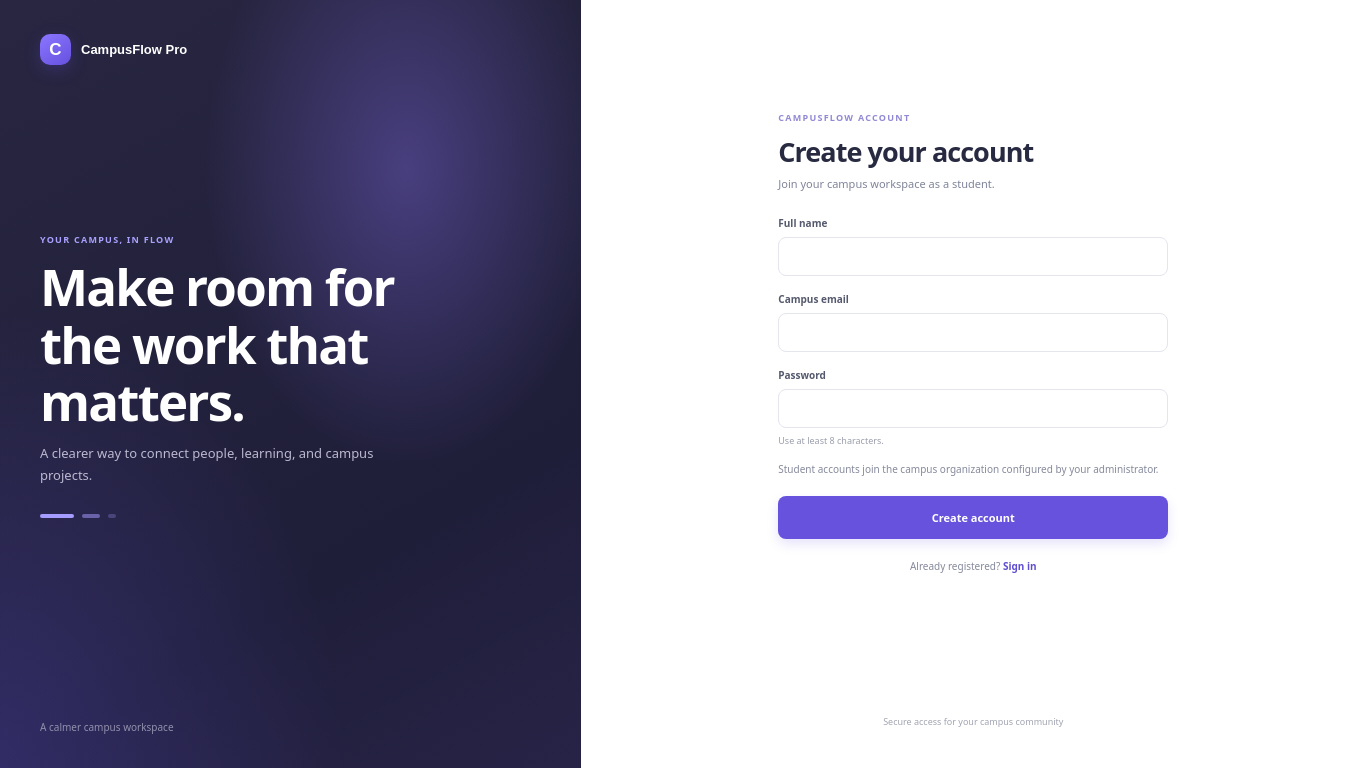
Test: authentication pages and session › registers only the submitted student fields and shows the sign-in link
The image size is (1366, 768).
Type "Asha Student" into the field labelled "Full name" at (973,257), box left=778, top=237, right=1168, bottom=276
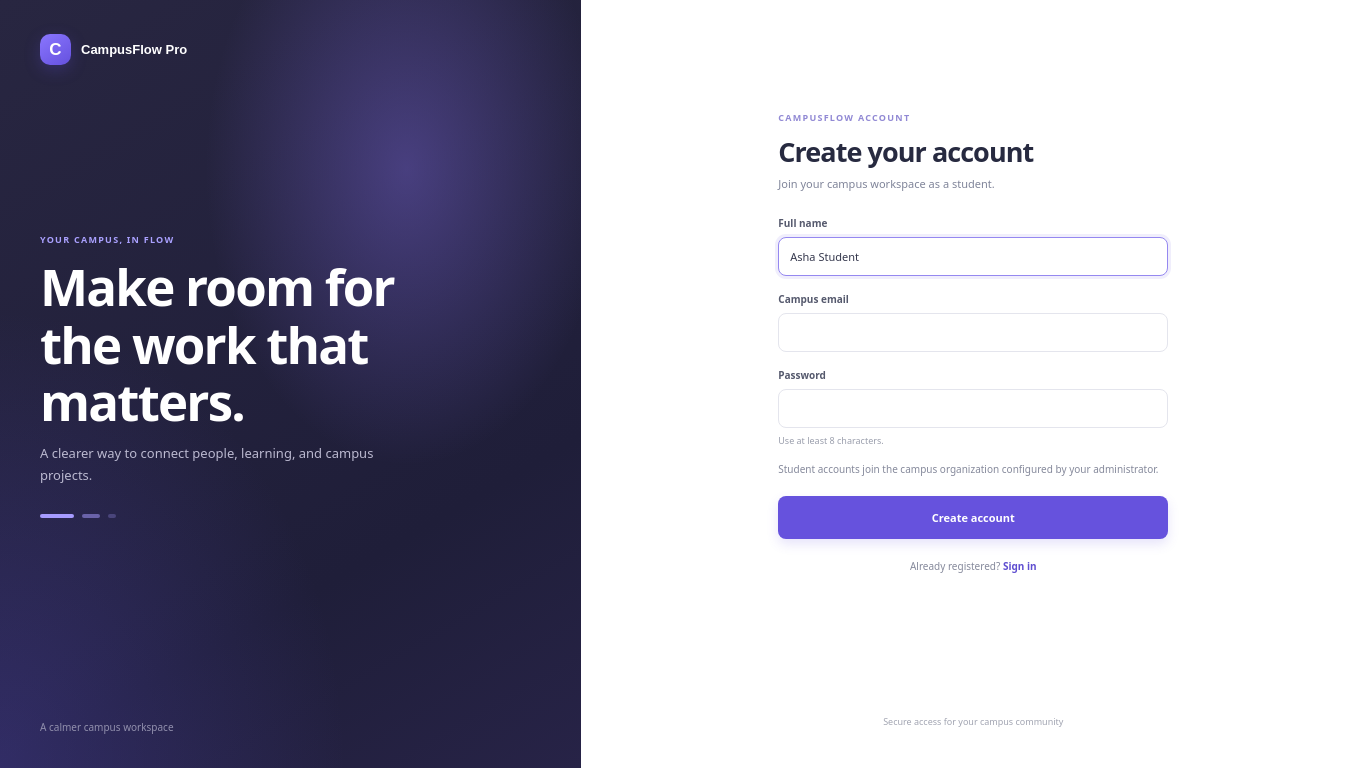
Type "asha@example.edu" into the field labelled "Campus email" at (973,333), box left=778, top=313, right=1168, bottom=352
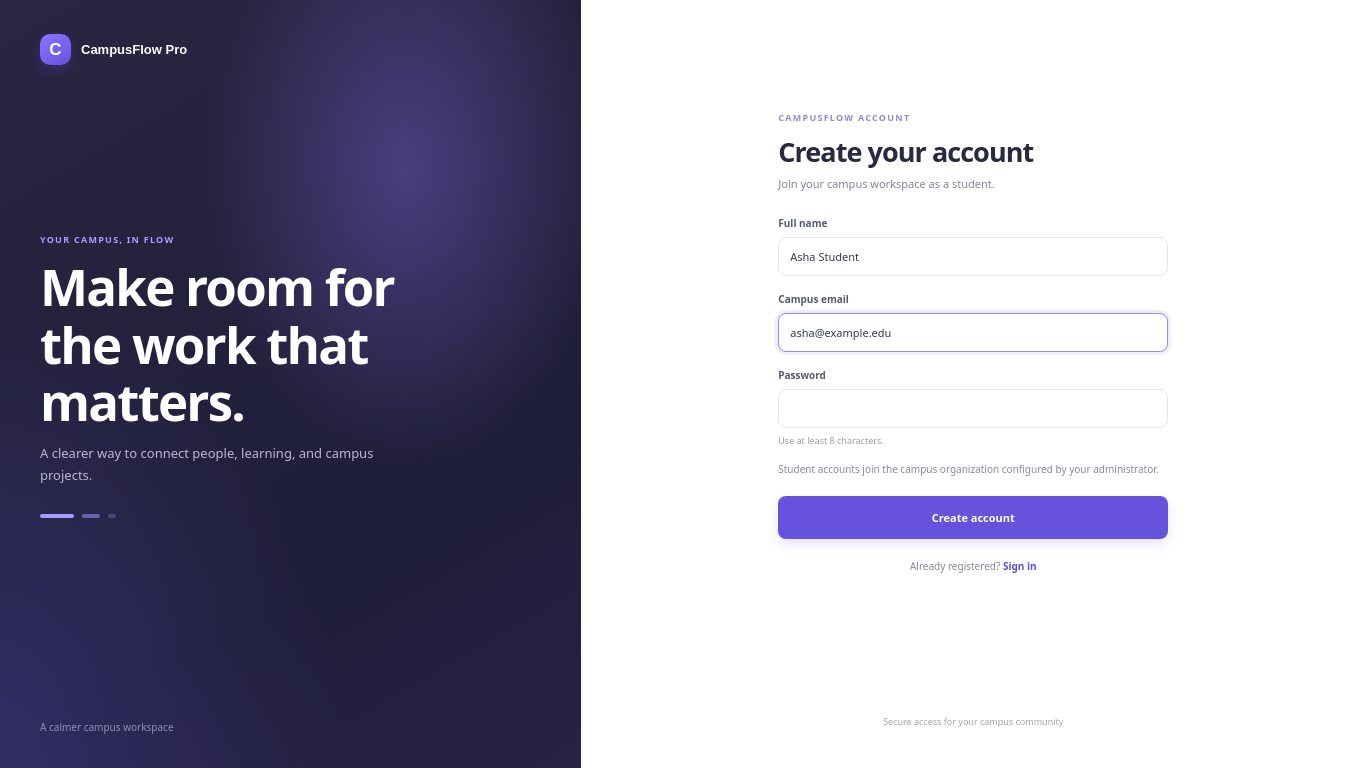
Type "campus-password" into the password field labelled "Password Use at least 8 characters." at (973,409), box left=778, top=389, right=1168, bottom=428
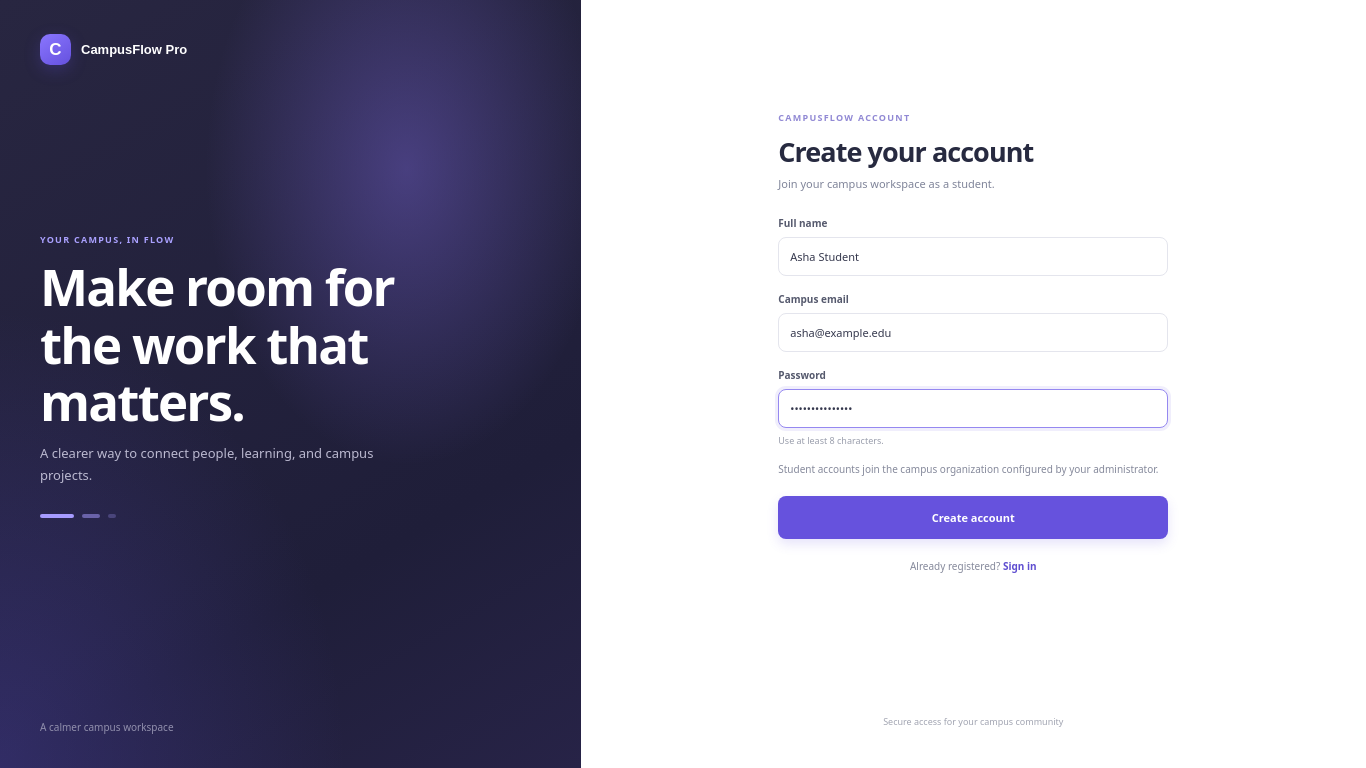
Click the button "Create account" at (973,517), box left=778, top=496, right=1168, bottom=539
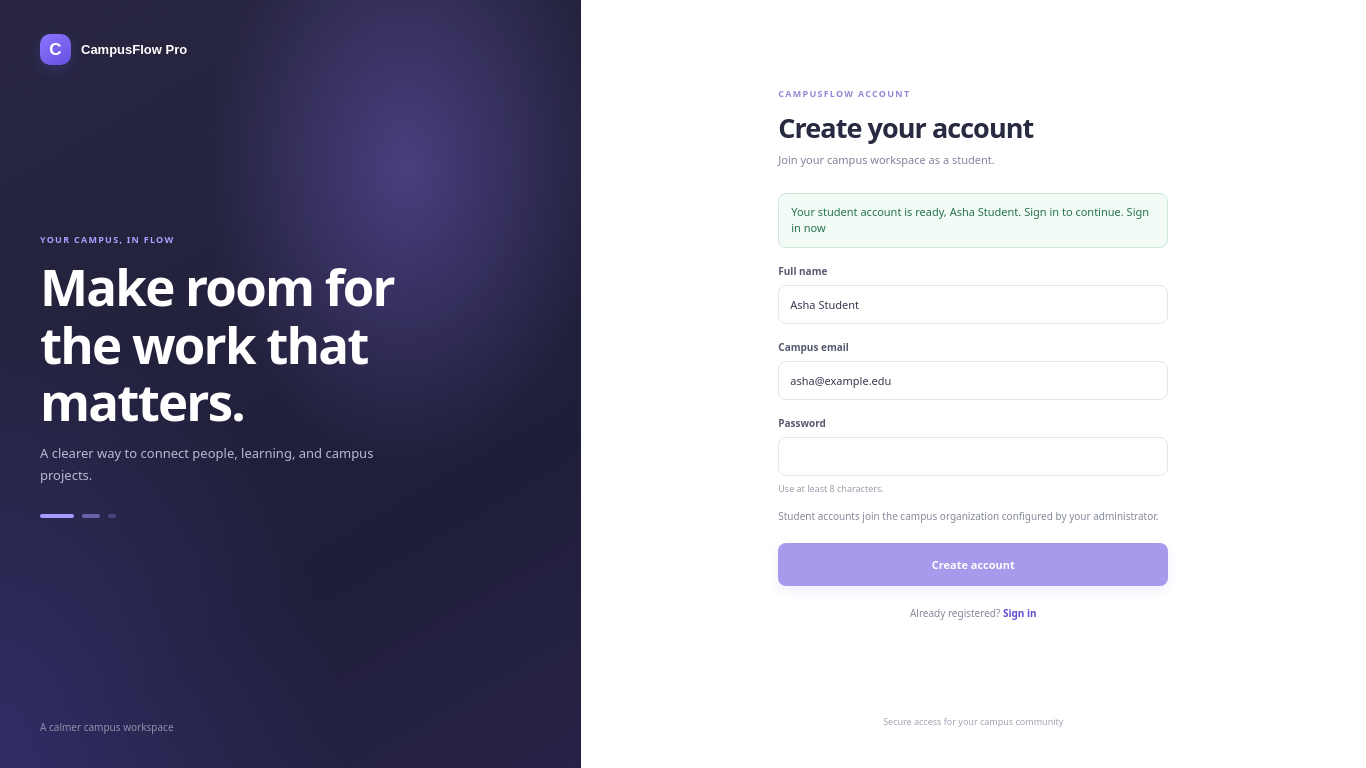
Result: the text "Your student account is ready" is shown at left=791, top=204, right=1124, bottom=218
Result: the link "Sign in now" is shown at left=791, top=204, right=1149, bottom=235
Result: the password field labelled "Password Use at least 8 characters." is empty at left=778, top=436, right=1168, bottom=476
